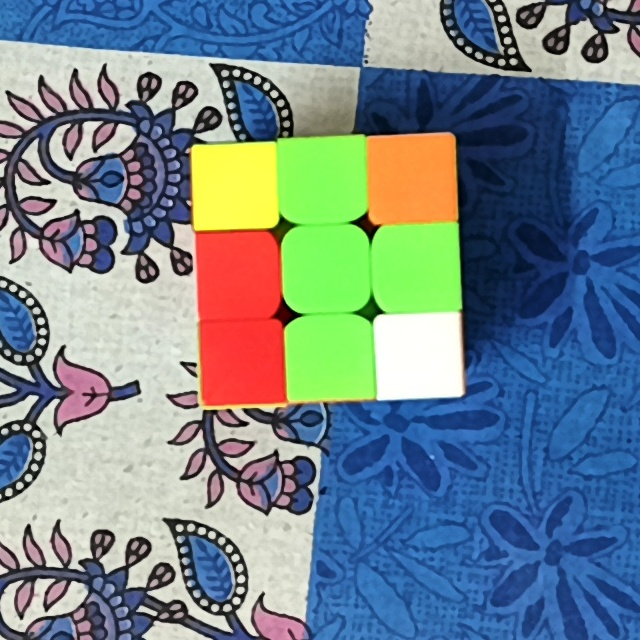tile: (382, 315, 453, 394), (285, 142, 361, 214), (200, 237, 270, 315), (374, 141, 448, 214), (203, 327, 276, 401), (198, 149, 270, 219), (379, 233, 449, 304), (294, 322, 360, 394), (290, 237, 364, 300)
